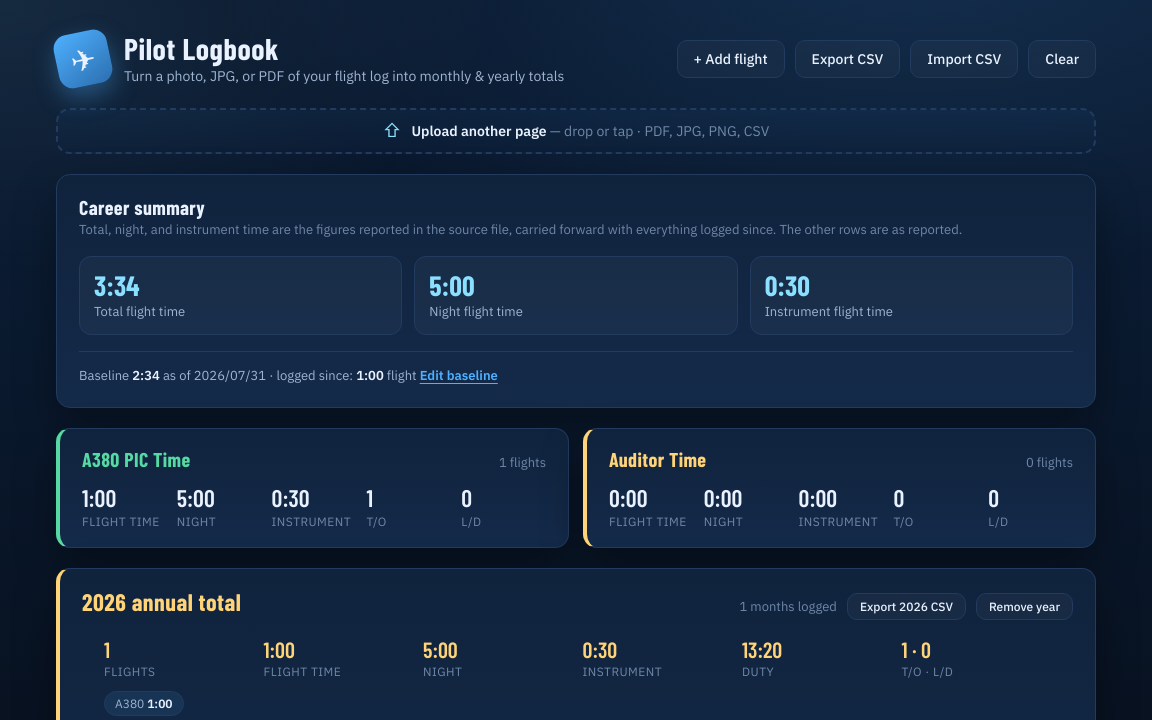
Test: career total › lets the pilot correct a misread baseline
Expected: the text "3:34" is shown, [94,268,140,302]
Click the button "Edit baseline": (459,376) [420,366,498,387]
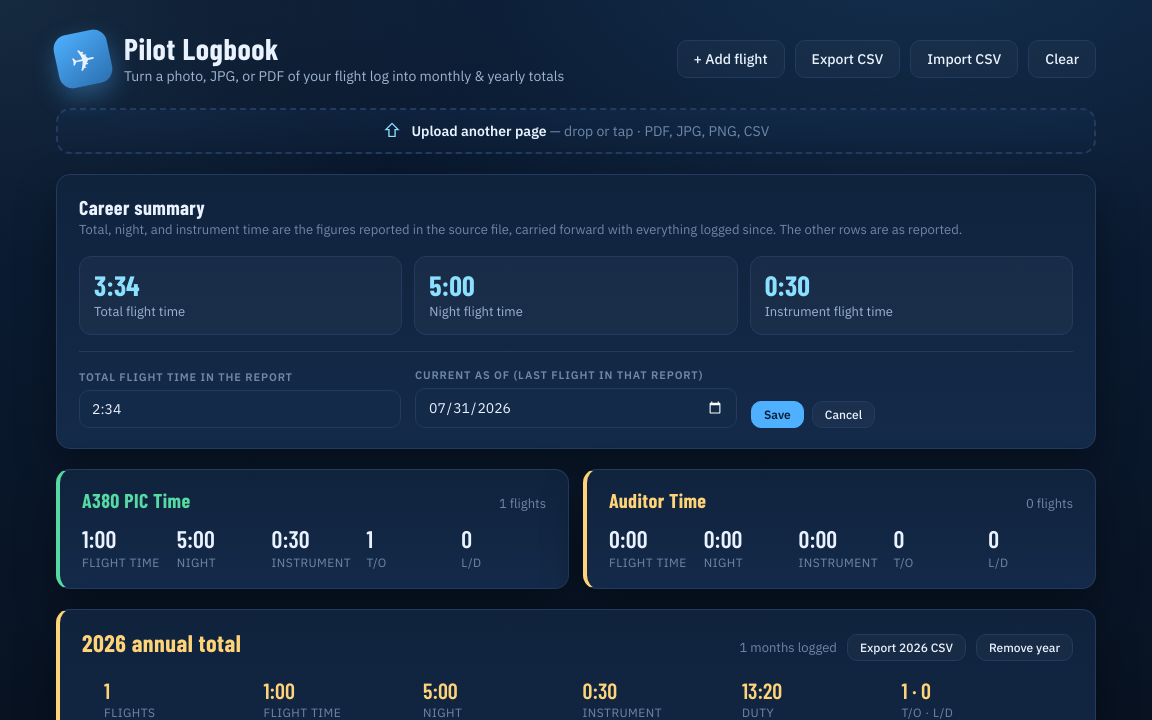
Replace the text in the field with placeholder "13206:27" with "13206:27": (240,409) [79,390,401,428]
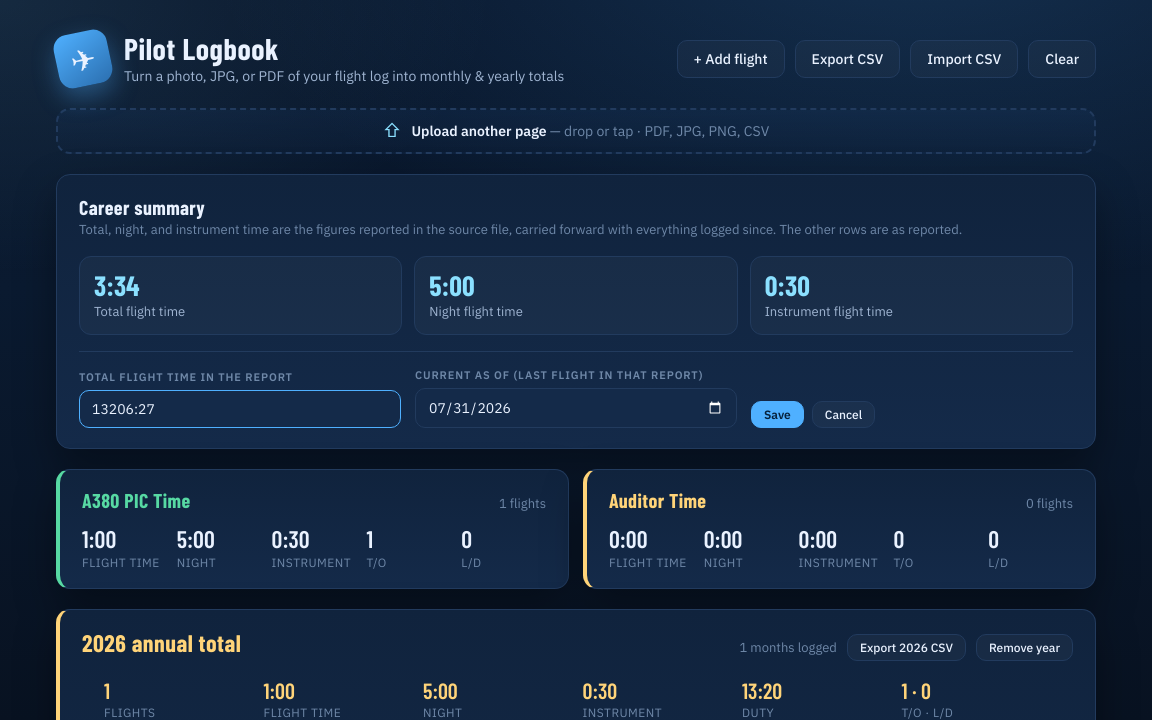
Click the button "Save": (777,414) [751,401,804,428]
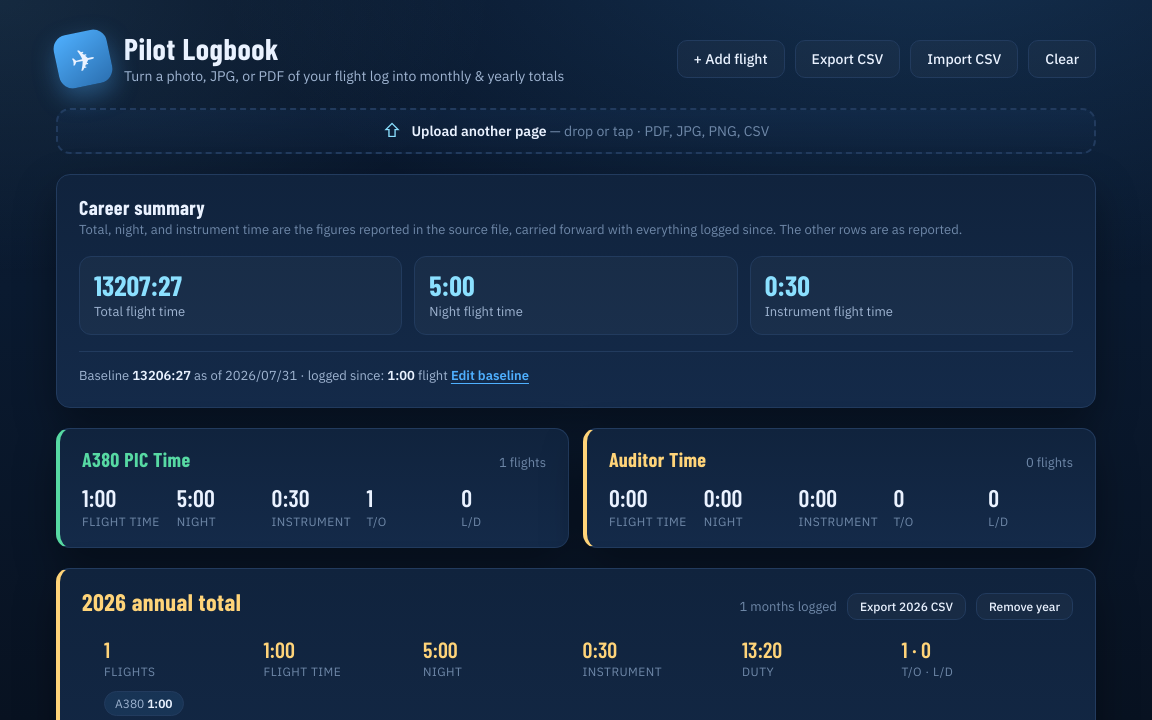
Expected: the text "13207:27" is shown, [94,268,182,302]
